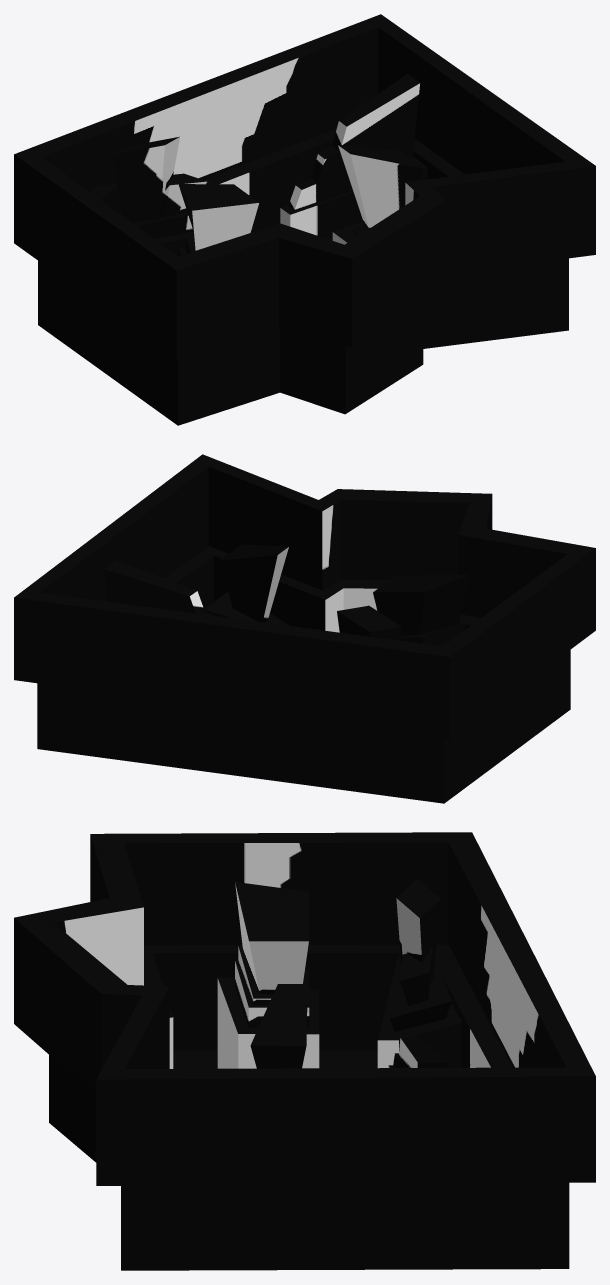
The model's file is level3_4.fbx.
3 renders of one model, top to bottom at view 1: azimuth 30°, elevation 25°; view 2: azimuth 150°, elevation 25°; view 3: azimuth 270°, elevation 25°, orthographic. The views are drawn at different scales.
Visible parts, largest first — view 1: 3-4_upper_wall, 3-4_lower_wall, 3-4_pillar_blue_top, 3-4_pillar_red_top, 3-4_pillar_yellow_top, 3-4_pillar_magenta_top, 3-4_pillar_blue; view 2: 3-4_upper_wall, 3-4_lower_wall, 3-4_pillar_magenta_top, 3-4_pillar_yellow_top, 3-4_pillar_blue_top, 3-4_pillar_red_top; view 3: 3-4_upper_wall, 3-4_lower_wall, 3-4_pillar_magenta_top, 3-4_pillar_red_top, 3-4_pillar_yellow_top, 3-4_pillar_magenta, 3-4_pillar_red, 3-4_floor, 3-4_pillar_blue_top.
Part boxes in pixels (x1,y1,x2,y2): 3-4_upper_wall: (14,14,595,359); 3-4_lower_wall: (38,128,568,425); 3-4_pillar_blue_top: (288,74,419,210); 3-4_pillar_red_top: (90,136,207,238); 3-4_pillar_yellow_top: (338,145,423,235); 3-4_pillar_magenta_top: (178,184,258,256); 3-4_pillar_blue: (280,157,427,240); 3-4_upper_wall: (14,454,595,739); 3-4_lower_wall: (37,546,570,803); 3-4_pillar_magenta_top: (373,574,469,646); 3-4_pillar_yellow_top: (204,544,288,624); 3-4_pillar_blue_top: (104,560,216,616); 3-4_pillar_red_top: (337,605,401,640); 3-4_upper_wall: (14,832,595,1185); 3-4_lower_wall: (49,944,569,1270); 3-4_pillar_magenta_top: (235,882,309,1028); 3-4_pillar_red_top: (390,879,452,1031); 3-4_pillar_yellow_top: (250,984,307,1068); 3-4_pillar_magenta: (217,976,319,1068); 3-4_pillar_red: (377,959,461,1068); 3-4_floor: (173,1050,377,1068); 3-4_pillar_blue_top: (388,1038,448,1067).
Size of the model in its own units: 10.75 by 4.17 by 10.68.
Materials: 11 (11 with a texture image).
